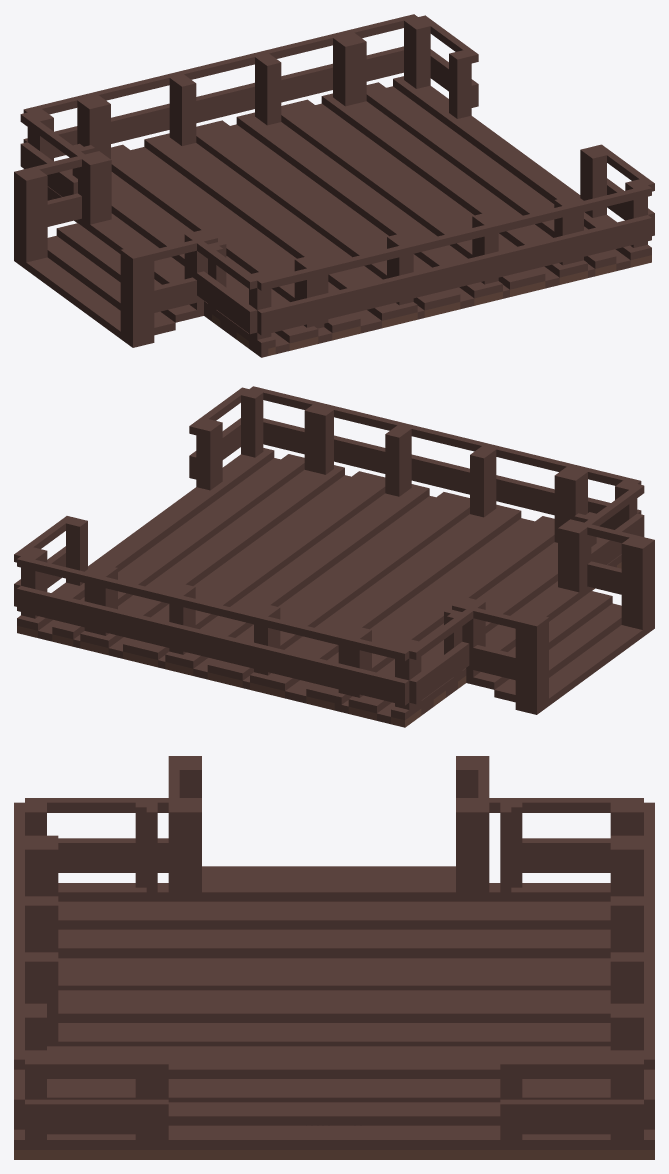
The model's file is Combined Desert(3)-11-bridge.obj.
3 renders of one model, top to bottom at view 1: azimuth 30°, elevation 25°; view 2: azimuth 150°, elevation 25°; view 3: azimuth 270°, elevation 25°, orthographic. The views are drawn at different scales.
Visible parts, largest first — view 1: bridge; view 2: bridge; view 3: bridge.
Part boxes in pixels (x1,y1,x2,y2): bridge: (14, 14, 654, 357); bridge: (14, 386, 654, 727); bridge: (14, 756, 654, 1159).
Size of the model in its own units: 6.6 by 1.2 by 5.8.
Materials: 1 (1 with a texture image).
